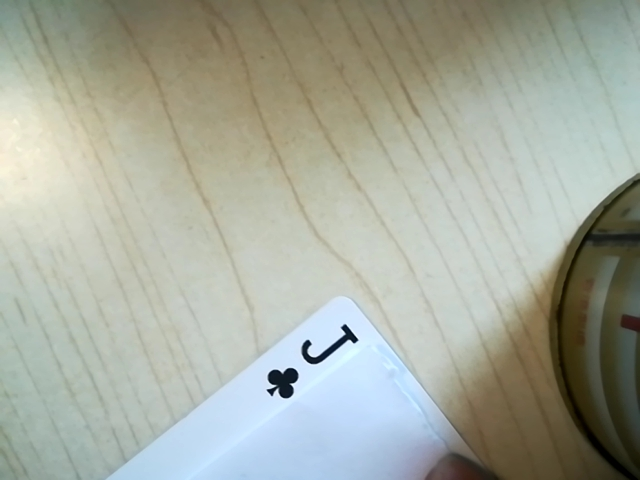mh j: (255, 318, 372, 404)
